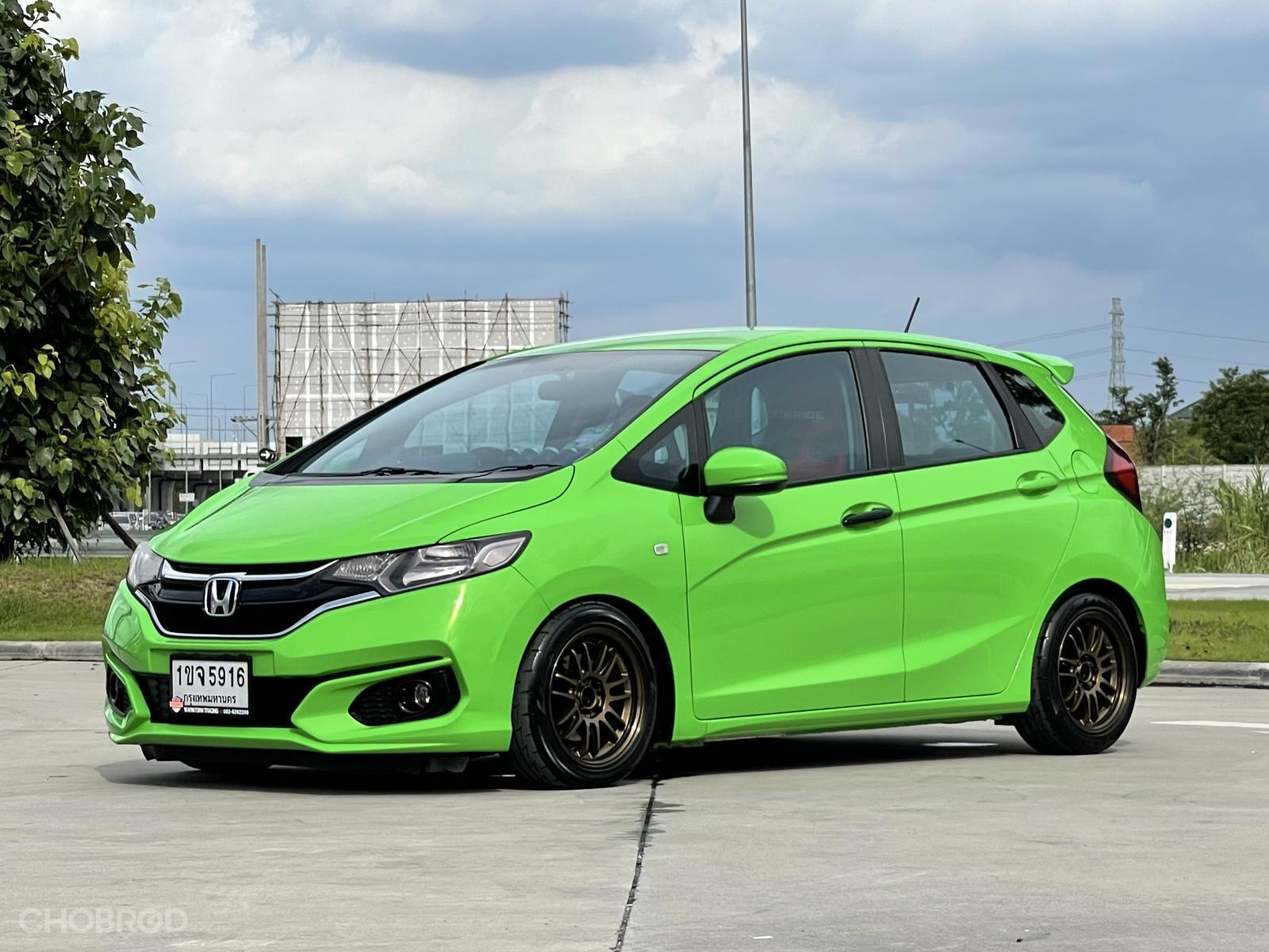license-plate: (167, 652, 257, 726)
